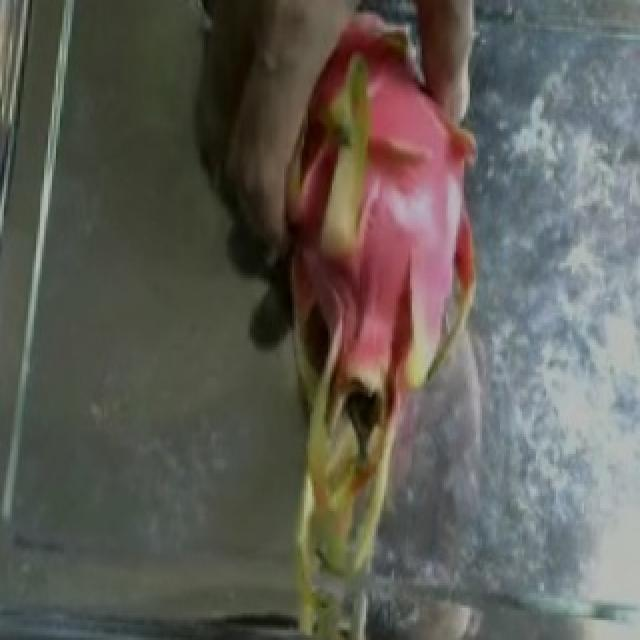fruit: (186, 213, 542, 635), (234, 3, 444, 429)
